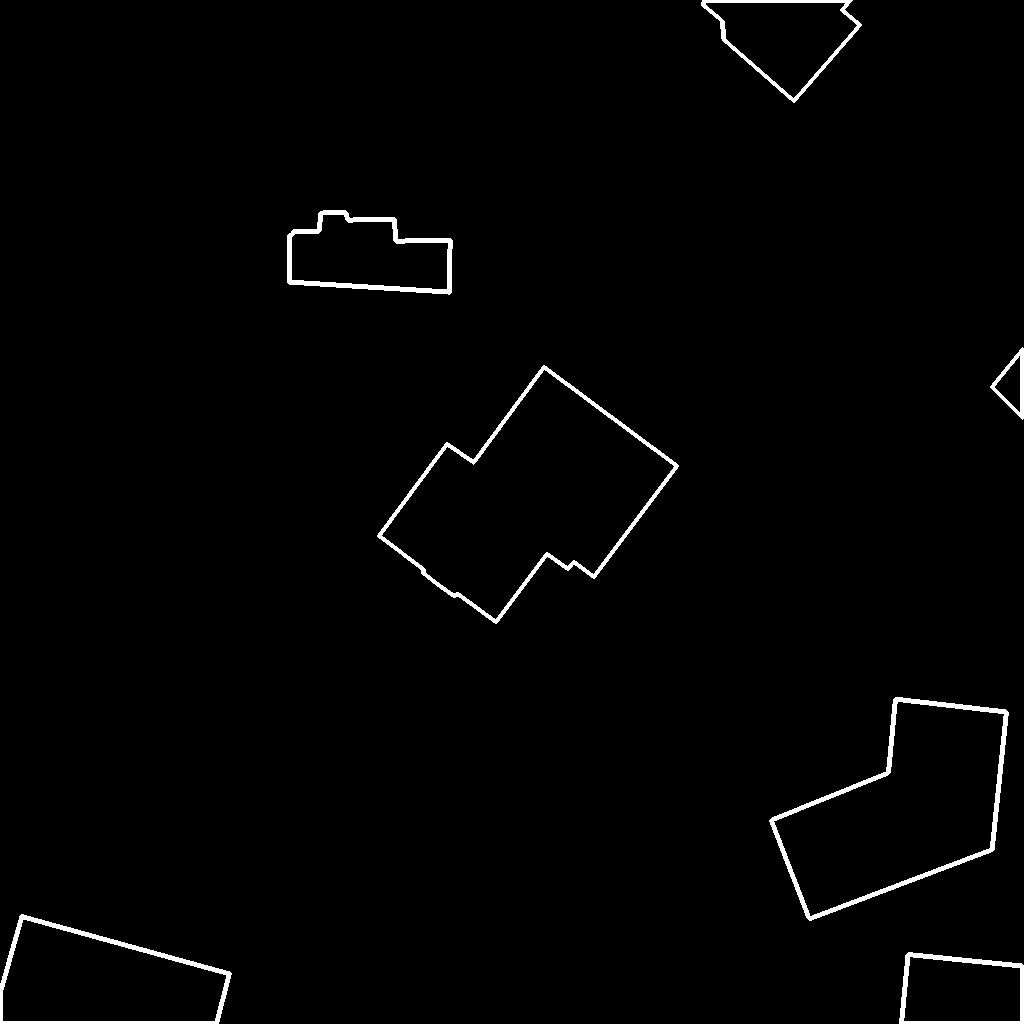building: (379, 367, 678, 623), (771, 699, 1008, 920), (0, 916, 231, 1024), (703, 0, 861, 102), (289, 212, 451, 293), (858, 954, 1024, 1024), (992, 349, 1024, 419)
